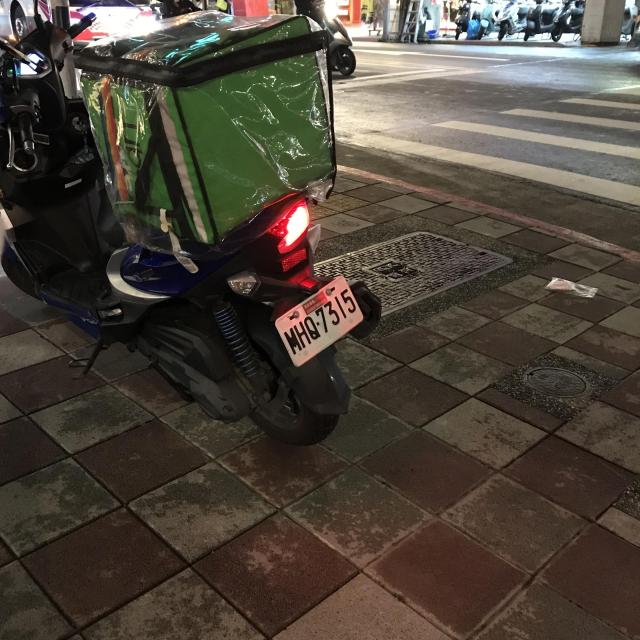W: (270, 272, 375, 371)
